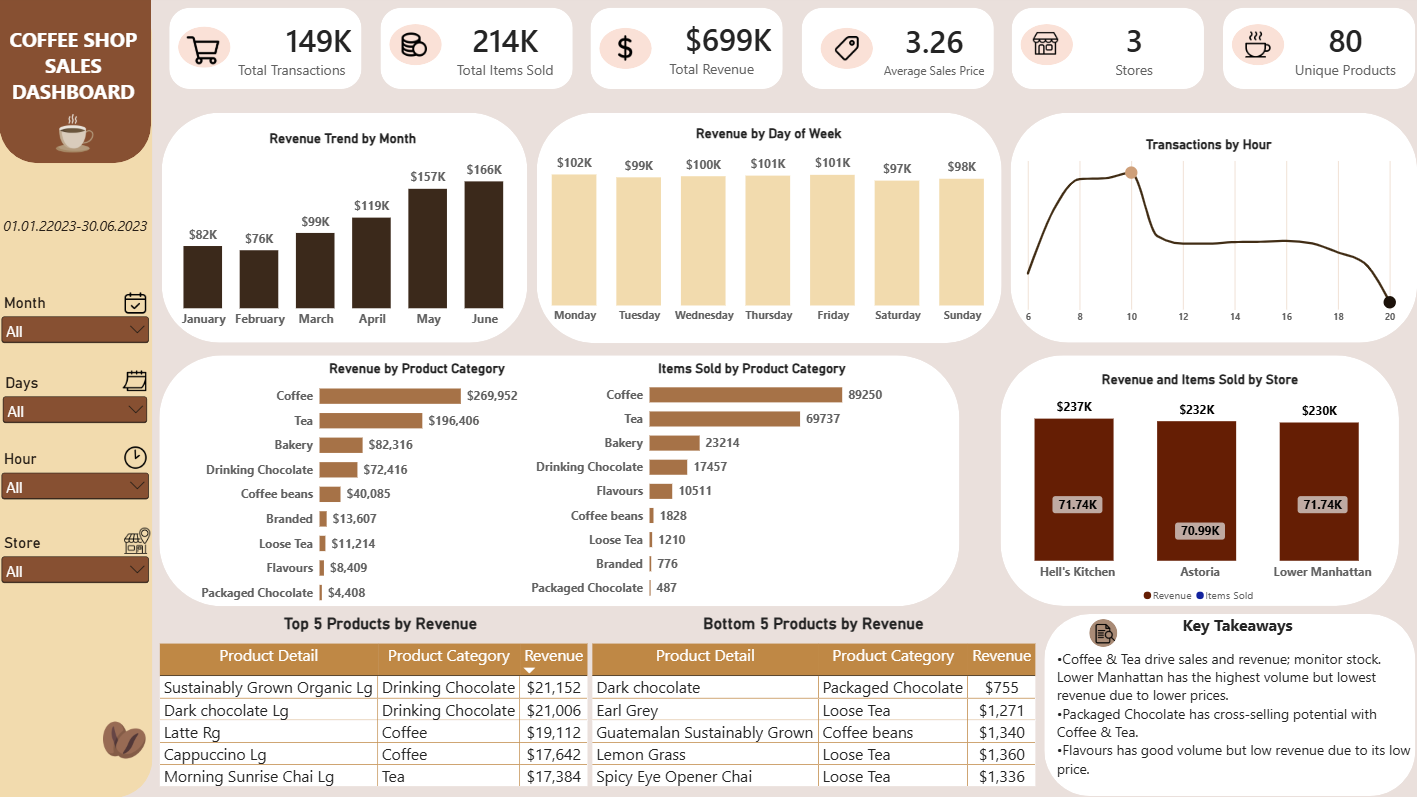

This screenshot's page, from the dashboard's own definition file:
{"tool":"powerbi","page":{"name":"Page 1","canvas":[1920,1080],"ordinal":0},"visuals":[{"type":"shape","box":[231.7,11.7,260,110],"z":0,"group":"g5"},{"type":"shape","box":[516.7,11.7,260,110],"z":0,"group":"g6"},{"type":"shape","box":[1086.7,11.7,259.8,110],"z":0,"group":"g1"},{"type":"shape","box":[1371.7,11.7,260,110],"z":0,"group":"g10"},{"type":"shape","box":[1656.7,11.7,260,110],"z":0,"group":"g9"},{"type":"shape","box":[1414.4,832.2,502,246.3],"z":0},{"type":"shape","box":[1476,837.8,38,38],"z":0,"group":"g23"},{"type":"group","id":"g1","title":"Group 4","box":[1086.7,11.7,259.8,110],"z":500,"group":"g7"},{"type":"shape","box":[0,0,209,1080.4],"z":1000},{"type":"cardVisual","title":"Total Transactions","fields":{"Data":["Count(Transactions1.transaction_id)"]},"box":[315.9,16.2,162.7,101.1],"z":1000,"group":"g5"},{"type":"cardVisual","title":"Total Transactions","fields":{"Data":["Sum(Transactions1.transaction_qty)"]},"box":[601.3,16.2,168.3,101.1],"z":1000,"group":"g6"},{"type":"cardVisual","title":"Total Transactions","fields":{"Data":["Transactions1.Average Sales Price"]},"box":[1184.1,16.2,162.6,101.1],"z":1000,"group":"g7"},{"type":"cardVisual","title":"Total Transactions","fields":{"Data":["Count(Transactions1.store_id)"]},"box":[1455.9,16.2,162.7,101.1],"z":1000,"group":"g10"},{"type":"cardVisual","title":"Total Transactions","fields":{"Data":["Count(Transactions1.product_id)"]},"box":[1740.9,16.2,162.7,101.1],"z":1000,"group":"g9"},{"type":"shape","box":[222,153,494.5,311],"z":1000,"group":"g16"},{"type":"slicer","fields":{"Values":["Transactions1.Day Name"]},"box":[1.6,507.1,205.3,69],"z":1000,"group":"g17"},{"type":"image","box":[1483.8,842.7,26.4,28.9],"z":1000,"group":"g23"},{"type":"shape","box":[801.7,11.7,260,110],"z":2000,"group":"g4"},{"type":"group","id":"g2","title":"Group 1","box":[0,602.7,209,87.7],"z":2000},{"type":"shape","box":[218.3,481.4,1082.2,339.6],"z":3000,"group":"g22"},{"type":"shape","box":[257.5,556,727.7,220.2],"z":3000},{"type":"cardVisual","title":"Total Transactions","fields":{"Data":["Sum(Transactions1.Revenue)"]},"box":[885.1,15.6,162.7,101.1],"z":4000,"group":"g4"},{"type":"shape","box":[1369.6,153,550,311],"z":4000,"group":"g21"},{"type":"group","id":"g3","title":"Group 15","box":[0,380.7,209,99.9],"z":4000},{"type":"shape","box":[1356.7,481.4,538.9,339],"z":4000,"group":"g13"},{"type":"clusteredBarChart","title":"Items Sold by Product Category","fields":{"Category":["Transactions1.product_category"],"Y":["Sum(Transactions1.transaction_qty)"]},"box":[720.2,488.9,599,319.1],"z":4000,"group":"g22"},{"type":"group","id":"g4","title":"Group 6","box":[801.7,11.7,260,110],"z":5000},{"type":"clusteredBarChart","title":"Revenue by Product Category","fields":{"Category":["Transactions1.product_category"],"Y":["Sum(Transactions1.Revenue)"]},"box":[274.3,488.9,585.7,325],"z":5000,"group":"g22"},{"type":"lineClusteredColumnComboChart","title":"Revenue and Items Sold by Store","fields":{"Category":["Transactions1.store_location"],"Y":["Sum(Transactions1.Revenue)"],"Y2":["Sum(Transactions1.transaction_qty)"]},"box":[1336,503.4,580.3,317],"z":5000,"group":"g13"},{"type":"group","id":"g5","title":"Group 2","box":[231.7,11.7,260,110],"z":6000},{"type":"shape","box":[814,39.4,71.1,55.8],"z":6000,"group":"g19"},{"type":"shape","box":[728.6,153,628.8,311.6],"z":6000,"group":"g15"},{"type":"lineChart","title":"Transactions by Hour","fields":{"Y":["CountNonNull(Transactions1.transaction_id)"],"Category":["Transactions1.Hour"]},"box":[1382.7,185,509.4,257.7],"z":6000,"group":"g21"},{"type":"shape","box":[528.4,33.5,71.1,55.8],"z":6005,"group":"g6"},{"type":"shape","box":[1383.4,34.2,71.1,55.8],"z":6005,"group":"g10"},{"type":"shape","box":[1668.4,34.2,71.1,55.8],"z":6005,"group":"g9"},{"type":"shape","box":[243.4,36.3,71.1,55.8],"z":6005,"group":"g5"},{"type":"group","id":"g6","title":"Group 2","box":[516.7,11.7,260,110],"z":7000,"group":"g12"},{"type":"group","id":"g7","title":"Group 7","box":[1086.7,11.7,260,110],"z":7000},{"type":"shape","box":[1111.9,38.5,71,55.8],"z":7000,"group":"g18"},{"type":"group","id":"g8","title":"Group 8","box":[1371.7,11.7,260,110],"z":8000},{"type":"group","id":"g9","title":"Group 2","box":[1656.7,11.7,260,110],"z":8000,"group":"g11"},{"type":"group","id":"g10","title":"Group 2","box":[1371.7,11.7,260,110],"z":9000,"group":"g20"},{"type":"group","id":"g11","title":"Group 10","box":[1656.7,11.7,260,110],"z":9000},{"type":"columnChart","title":"Revenue Trend by Month","fields":{"Category":["Transactions1.Month Name"],"Y":["Sum(Transactions1.Revenue)"]},"box":[248.1,176.2,439,272],"z":9000,"group":"g16"},{"type":"group","id":"g12","title":"Group 11","box":[516.7,11.7,260,110],"z":10000},{"type":"image","box":[827.1,49.2,43.1,34.3],"z":10000,"group":"g19"},{"type":"columnChart","title":"Revenue by Day of Week","fields":{"Y":["Sum(Transactions1.Revenue)"],"Category":["Transactions1.Day Name"]},"box":[749.1,169.8,587,273],"z":10000,"group":"g15"},{"type":"image","box":[540.8,44.4,44.1,35.1],"z":11000,"group":"g12"},{"type":"tableEx","title":"Top 5 Products by Revenue","fields":{"Values":["Transactions1.product_detail","Transactions1.product_category","Sum(Transactions1.Revenue)"]},"box":[218.3,832.2,599,238.8],"z":11000},{"type":"image","box":[1395.6,42.9,44.1,35.1],"z":12000,"group":"g20"},{"type":"textbox","box":[0,294.8,208.7,30.7],"z":12000},{"type":"image","box":[1682.1,44.4,44.1,35.1],"z":13000,"group":"g11"},{"type":"image","box":[255.6,46.6,44,44],"z":13000},{"type":"image","box":[160.5,501,48,32],"z":14000,"group":"g17"},{"type":"image","box":[141.8,961,57.8,84],"z":14000},{"type":"tableEx","title":"Bottom 5 Products by Revenue","fields":{"Values":["Transactions1.product_detail","Transactions1.product_category","Sum(Transactions1.Revenue)"]},"box":[802.4,832.2,600,238],"z":15000},{"type":"shape","box":[1.9,0,205.3,222],"z":16000},{"type":"textbox","box":[0,35.5,203.4,117.6],"z":17000},{"type":"image","box":[78.4,139.9,52.2,82.1],"z":18000},{"type":"slicer","fields":{"Values":["Transactions1.Month Name"]},"box":[0,398.5,209,82.1],"z":19000,"group":"g3"},{"type":"group","id":"g13","title":"Group 14","box":[1336,481.4,580.3,339],"z":19000},{"type":"group","id":"g14","title":"Group 18","box":[218.3,481.4,1100.9,339.6],"z":20000},{"type":"group","id":"g15","title":"Group 13","box":[728.6,153,628.8,311.6],"z":21000},{"type":"slicer","fields":{"Values":["Transactions1.Hour"]},"box":[0,610.9,209,80.2],"z":21000,"group":"g2"},{"type":"group","id":"g16","title":"Group 12","box":[222,153,494.5,311],"z":22000},{"type":"image","box":[169,380.7,33.6,61.6],"z":23000,"group":"g3"},{"type":"group","id":"g17","title":"Group 16","box":[1.6,501,206.9,75.2],"z":23000},{"type":"image","box":[171,602.7,30,36.7],"z":24000,"group":"g2"},{"type":"image","box":[1125,48.9,44.1,35.1],"z":24001,"group":"g18"},{"type":"group","id":"g18","title":"Group 3","box":[1111.9,38.5,71,56.5],"z":24002,"group":"g1"},{"type":"group","id":"g19","title":"Group 5","box":[814,39.4,71.1,55.8],"z":24002,"group":"g4"},{"type":"group","id":"g20","title":"Group 9","box":[1371.7,11.7,260,110],"z":24006,"group":"g8"},{"type":"textbox","box":[1431.2,832.2,488.9,248.2],"z":25000},{"type":"group","id":"g21","title":"Group 17","box":[1369.6,153,550,311],"z":26000},{"type":"group","id":"g22","title":"Group 19","box":[218.3,481.4,1100.9,339.6],"z":26001,"group":"g14"},{"type":"group","id":"g23","title":"Group 20","box":[1476,837.8,38,38],"z":27000},{"type":"slicer","fields":{"Values":["Transactions1.store_location"]},"box":[0,724,209,80.2],"z":27001},{"type":"image","box":[170,713,35,38],"z":27002}]}

Visuals, with their boxes in screenshot pixels (x1, y1, x2, y2), scaled from the page's 1920x1080 canvas onto the 1417x797 screenshot:
shape: <bbox>171, 9, 363, 90</bbox>
shape: <bbox>381, 9, 573, 90</bbox>
shape: <bbox>802, 9, 994, 90</bbox>
shape: <bbox>1012, 9, 1204, 90</bbox>
shape: <bbox>1223, 9, 1415, 90</bbox>
shape: <bbox>1044, 614, 1414, 796</bbox>
shape: <bbox>1089, 618, 1117, 646</bbox>
"Group 4" group: <bbox>802, 9, 994, 90</bbox>
shape: <bbox>0, 0, 154, 796</bbox>
"Total Transactions" cardVisual: <bbox>233, 12, 353, 87</bbox>
"Total Transactions" cardVisual: <bbox>444, 12, 568, 87</bbox>
"Total Transactions" cardVisual: <bbox>874, 12, 994, 87</bbox>
"Total Transactions" cardVisual: <bbox>1074, 12, 1195, 87</bbox>
"Total Transactions" cardVisual: <bbox>1285, 12, 1405, 87</bbox>
shape: <bbox>164, 113, 529, 342</bbox>
slicer - Transactions1.Day Name: <bbox>1, 374, 153, 425</bbox>
image: <bbox>1095, 622, 1115, 643</bbox>
shape: <bbox>592, 9, 784, 90</bbox>
"Group 1" group: <bbox>0, 445, 154, 509</bbox>
shape: <bbox>161, 355, 960, 606</bbox>
shape: <bbox>190, 410, 727, 573</bbox>
"Total Transactions" cardVisual: <bbox>653, 12, 773, 86</bbox>
shape: <bbox>1011, 113, 1416, 342</bbox>
"Group 15" group: <bbox>0, 281, 154, 355</bbox>
shape: <bbox>1001, 355, 1399, 605</bbox>
"Items Sold by Product Category" clusteredBarChart: <bbox>532, 361, 974, 596</bbox>
"Group 6" group: <bbox>592, 9, 784, 90</bbox>
"Revenue by Product Category" clusteredBarChart: <bbox>202, 361, 635, 601</bbox>
"Revenue and Items Sold by Store" lineClusteredColumnComboChart: <bbox>986, 371, 1414, 605</bbox>
"Group 2" group: <bbox>171, 9, 363, 90</bbox>
shape: <bbox>601, 29, 653, 70</bbox>
shape: <bbox>538, 113, 1002, 343</bbox>
"Transactions by Hour" lineChart: <bbox>1020, 137, 1396, 327</bbox>
shape: <bbox>390, 25, 442, 66</bbox>
shape: <bbox>1021, 25, 1073, 66</bbox>
shape: <bbox>1231, 25, 1284, 66</bbox>
shape: <bbox>180, 27, 232, 68</bbox>
"Group 2" group: <bbox>381, 9, 573, 90</bbox>
"Group 7" group: <bbox>802, 9, 994, 90</bbox>
shape: <bbox>821, 28, 873, 70</bbox>
"Group 8" group: <bbox>1012, 9, 1204, 90</bbox>
"Group 2" group: <bbox>1223, 9, 1415, 90</bbox>
"Group 2" group: <bbox>1012, 9, 1204, 90</bbox>
"Group 10" group: <bbox>1223, 9, 1415, 90</bbox>
"Revenue Trend by Month" columnChart: <bbox>183, 130, 507, 331</bbox>
"Group 11" group: <bbox>381, 9, 573, 90</bbox>
image: <bbox>610, 36, 642, 62</bbox>
"Revenue by Day of Week" columnChart: <bbox>553, 125, 986, 327</bbox>
image: <bbox>399, 33, 432, 59</bbox>
"Top 5 Products by Revenue" tableEx: <bbox>161, 614, 603, 790</bbox>
image: <bbox>1030, 32, 1063, 58</bbox>
textbox: <bbox>0, 218, 154, 240</bbox>
image: <bbox>1241, 33, 1274, 59</bbox>
image: <bbox>189, 34, 221, 67</bbox>
image: <bbox>118, 370, 154, 393</bbox>
image: <bbox>105, 709, 147, 771</bbox>
"Bottom 5 Products by Revenue" tableEx: <bbox>592, 614, 1035, 790</bbox>
shape: <bbox>1, 0, 153, 164</bbox>
textbox: <bbox>0, 26, 150, 113</bbox>
image: <bbox>58, 103, 96, 164</bbox>
slicer - Transactions1.Month Name: <bbox>0, 294, 154, 355</bbox>
"Group 14" group: <bbox>986, 355, 1414, 605</bbox>
"Group 18" group: <bbox>161, 355, 974, 606</bbox>
"Group 13" group: <bbox>538, 113, 1002, 343</bbox>
slicer - Transactions1.Hour: <bbox>0, 451, 154, 510</bbox>
"Group 12" group: <bbox>164, 113, 529, 342</bbox>
image: <bbox>125, 281, 150, 326</bbox>
"Group 16" group: <bbox>1, 370, 154, 425</bbox>
image: <bbox>126, 445, 148, 472</bbox>
image: <bbox>830, 36, 863, 62</bbox>
"Group 3" group: <bbox>821, 28, 873, 70</bbox>
"Group 5" group: <bbox>601, 29, 653, 70</bbox>
"Group 9" group: <bbox>1012, 9, 1204, 90</bbox>
textbox: <bbox>1056, 614, 1416, 796</bbox>
"Group 17" group: <bbox>1011, 113, 1416, 342</bbox>
"Group 19" group: <bbox>161, 355, 974, 606</bbox>
"Group 20" group: <bbox>1089, 618, 1117, 646</bbox>
slicer - Transactions1.store_location: <bbox>0, 534, 154, 593</bbox>
image: <bbox>125, 526, 151, 554</bbox>
